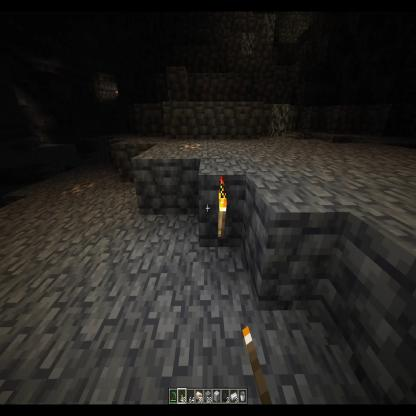iron ore: (57, 182, 96, 198), (178, 140, 204, 151)
